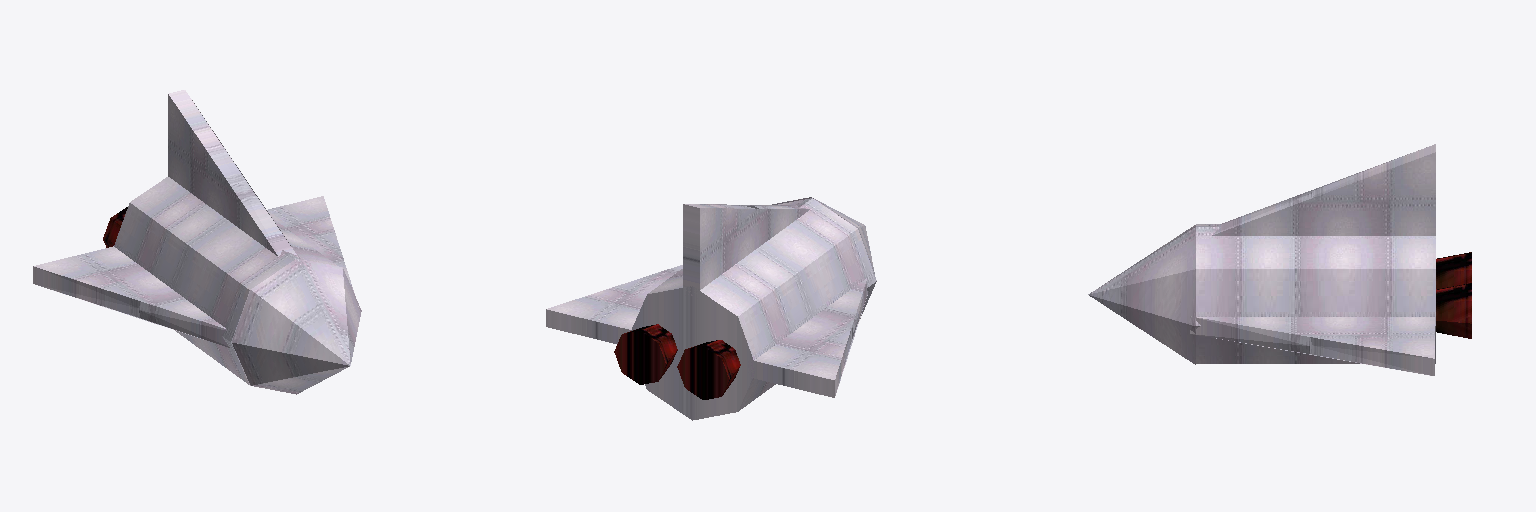
The picture shows the model from 3 angles: view 1: azimuth 30°, elevation 25°; view 2: azimuth 150°, elevation 25°; view 3: azimuth 270°, elevation 25°; orthographic projection.
Visible parts, largest first — view 1: Cylinder_3, Cone_1, Cube_3, Cube_3_2, Cube_3_1; view 2: Cylinder_3, Cube_3, Cube_3_2, Cube_3_1, Cone_6_1, Cone_6; view 3: Cylinder_3, Cube_3_2, Cube_3_1, Cone_1, Cone_6_1, Cone_6.
Part boxes in pixels (x1,y1,x2,y2): Cylinder_3: (114, 177, 336, 385); Cone_1: (232, 259, 361, 394); Cube_3: (33, 246, 229, 347); Cube_3_2: (168, 90, 296, 256); Cube_3_1: (267, 196, 358, 306); Cylinder_3: (631, 198, 876, 420); Cube_3: (748, 278, 867, 397); Cube_3_2: (683, 204, 809, 298); Cube_3_1: (546, 265, 682, 343); Cone_6_1: (614, 324, 677, 384); Cone_6: (677, 340, 740, 399); Cylinder_3: (1196, 224, 1435, 363); Cube_3_2: (1212, 144, 1435, 235); Cube_3_1: (1190, 316, 1434, 375); Cone_1: (1088, 225, 1195, 364); Cone_6_1: (1436, 283, 1471, 338); Cone_6: (1436, 252, 1471, 288).
Size of the model in its own units: 2.23 by 1.58 by 2.56.
2 materials, 2 textured.